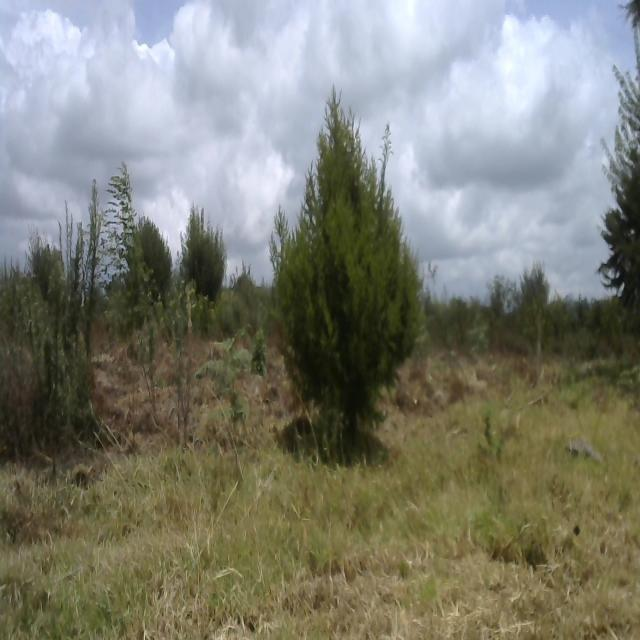Juniperus procesera: (268, 87, 428, 422)
Olea europea -africana-: (175, 207, 230, 297), (124, 208, 171, 296)
